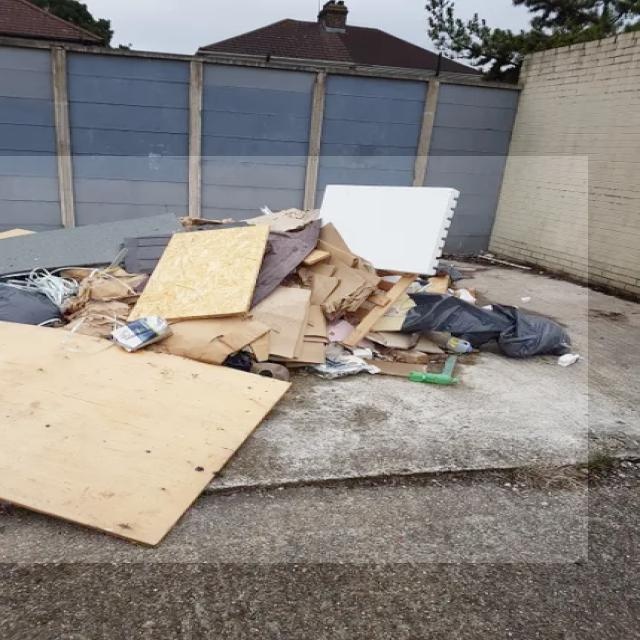dumping: (0, 156, 588, 563)
